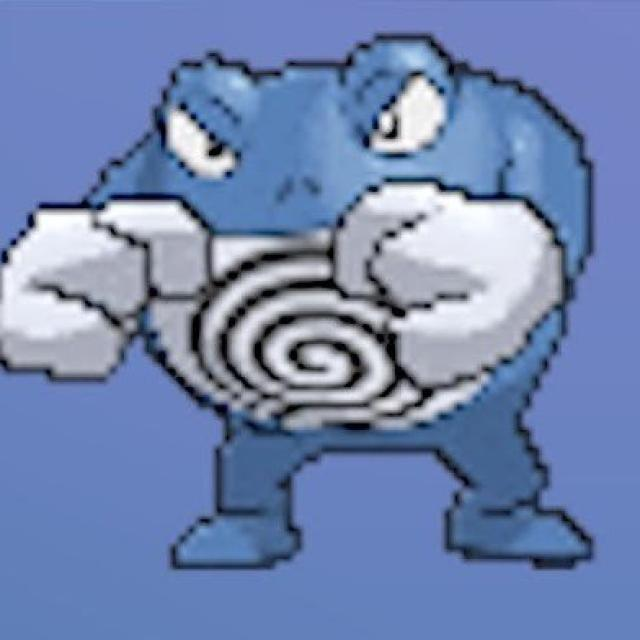Poliwrath: (13, 47, 579, 574)
